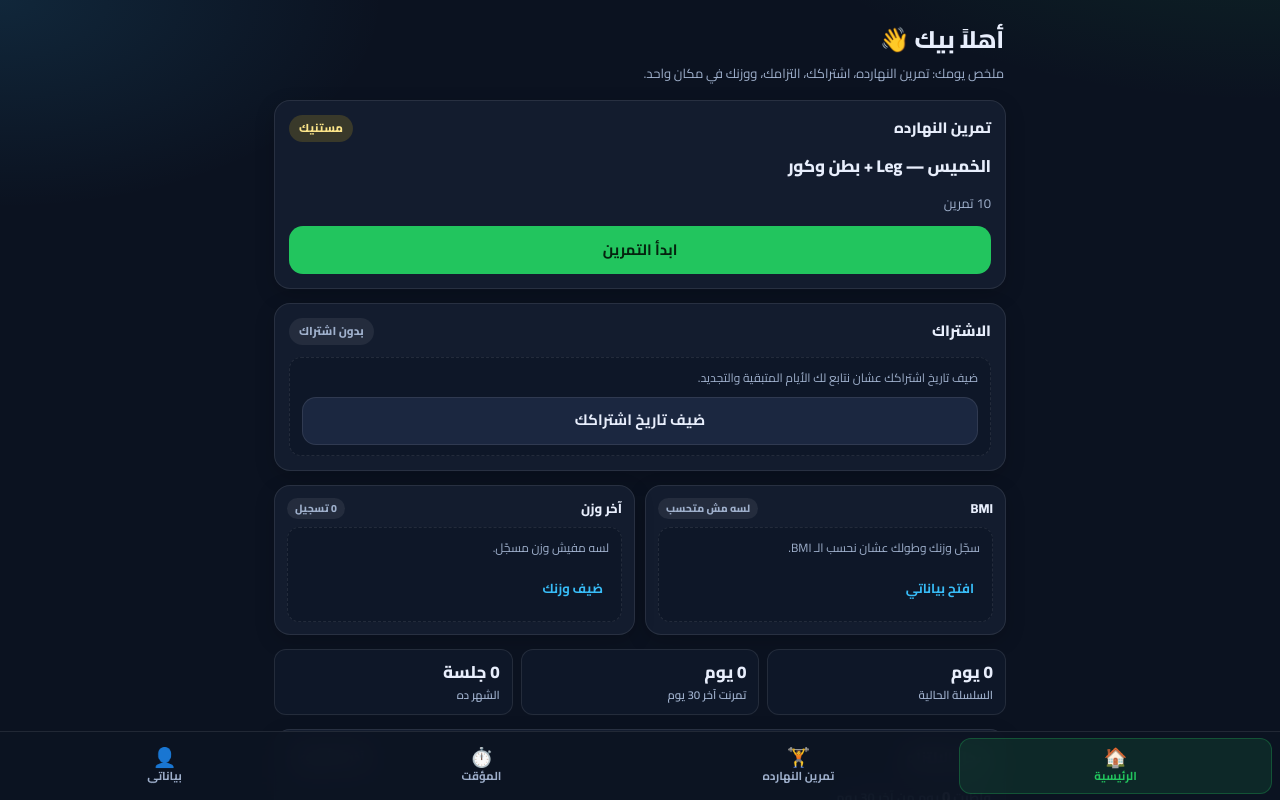
App navigation › marks the Home tab inactive on /profile and the profile tab inactive on /
The width and height of the screenshot is (1280, 800).
Expected: the heading "أهلاً بيك 👋" is shown, x1=880 y1=17 x2=1004 y2=62
Click the link "👤 بياناتي" at (165, 763), box x1=147 y1=739 x2=182 y2=787
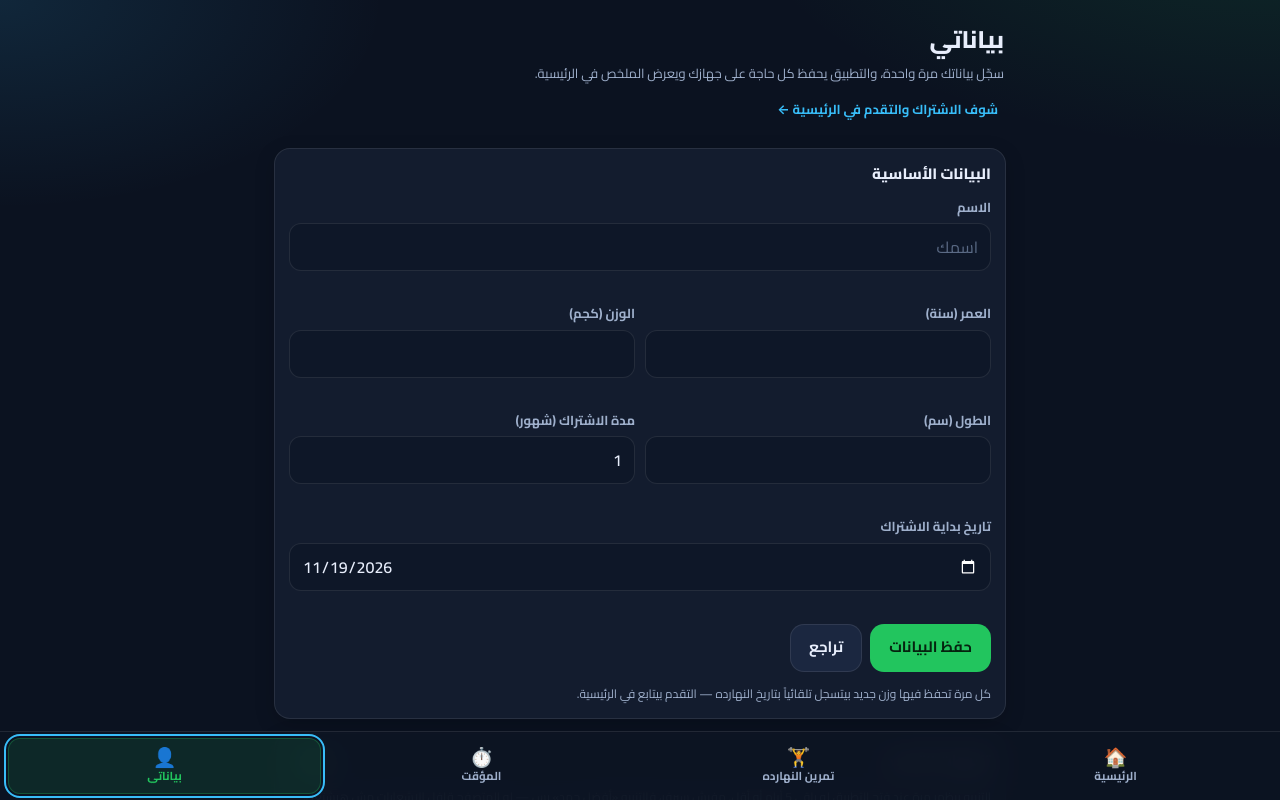
Expected: the heading "بياناتي" is shown, x1=929 y1=17 x2=1004 y2=62
